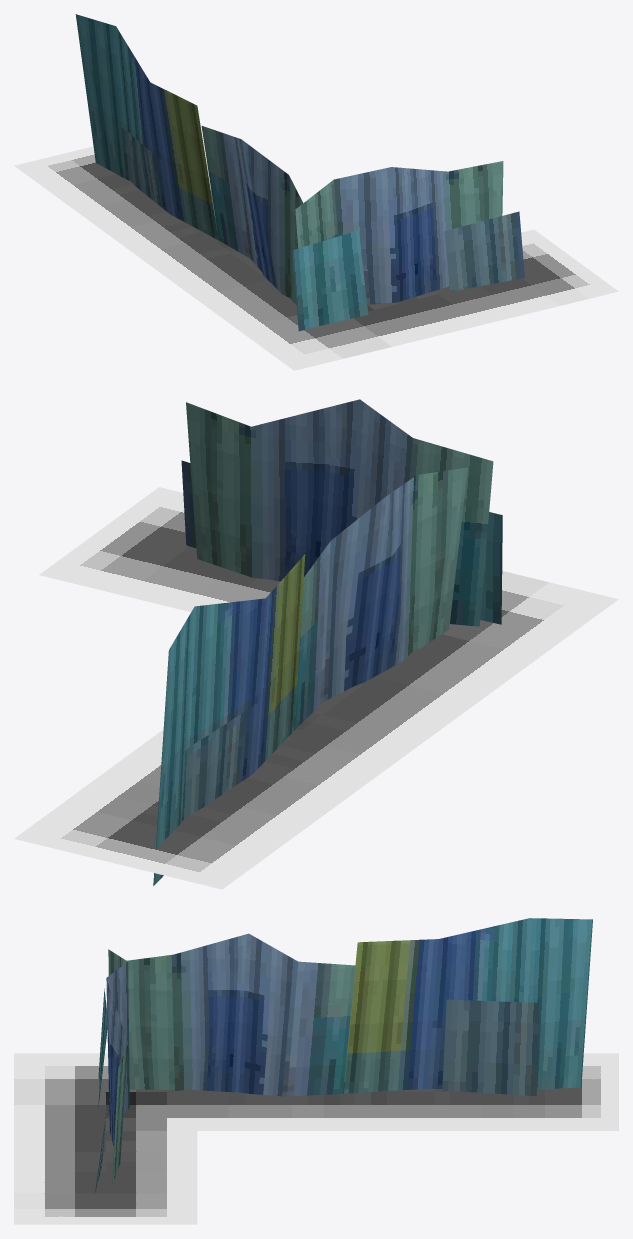
The model's file is int_fence_18.dae.
The picture shows the model from 3 angles, top to bottom: view 1: azimuth 30°, elevation 25°; view 2: azimuth 150°, elevation 25°; view 3: azimuth 270°, elevation 25°; orthographic projection. The views are drawn at different scales.
Parts seen in each view (by area): view 1: int_fence_18; view 2: int_fence_18; view 3: int_fence_18.
Part boxes in pixels (box(x1,y1,x2,y2)): int_fence_18: box(14, 14, 618, 370); int_fence_18: box(14, 399, 618, 889); int_fence_18: box(14, 918, 618, 1224).
Bounding box in the file's own units: 44.17 × 23.74 × 66.
Materials: 2 (2 with a texture image).
